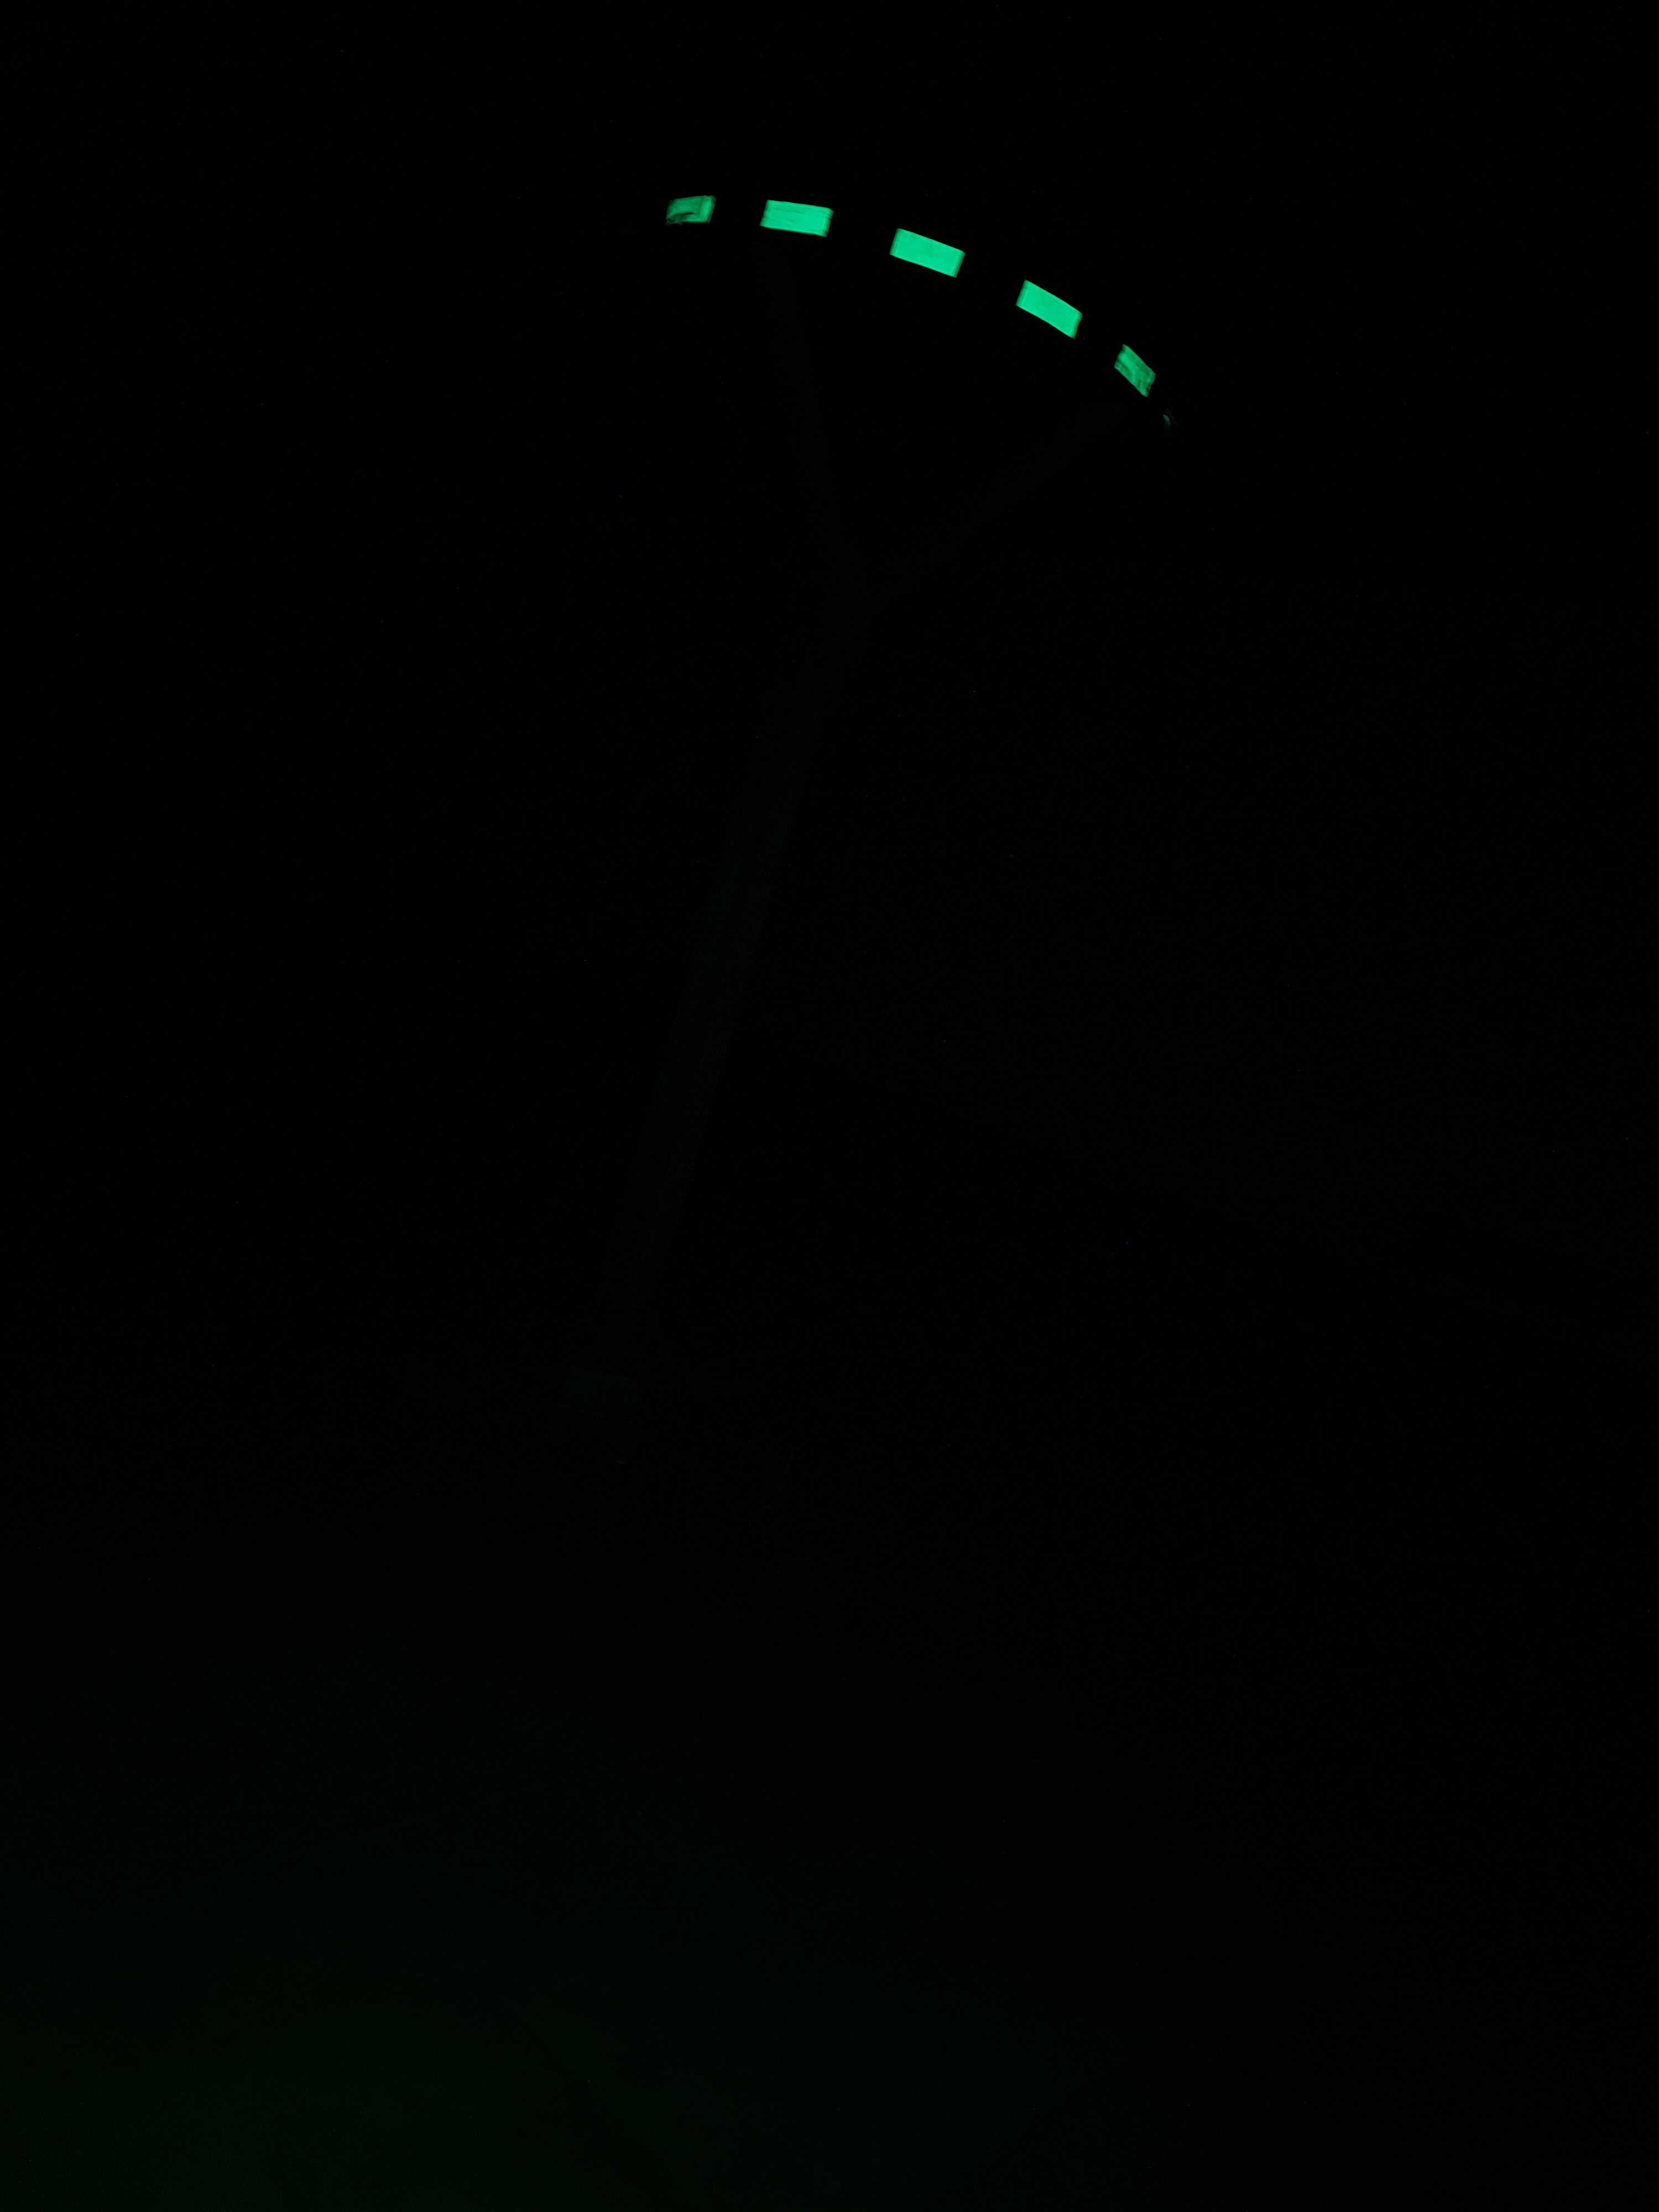hoop: (660, 193, 1157, 402)
